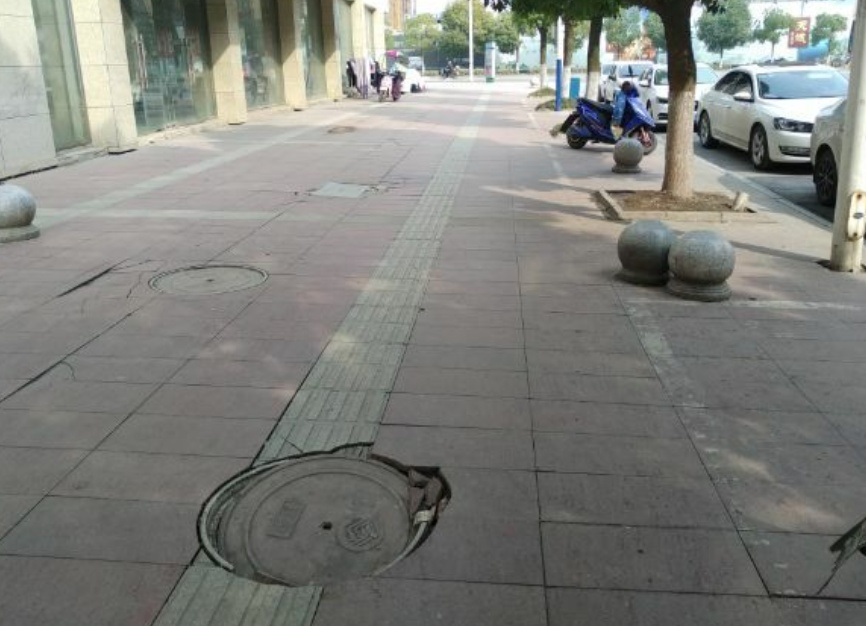good: (148, 264, 268, 292)
uncovered: (198, 453, 444, 589)
